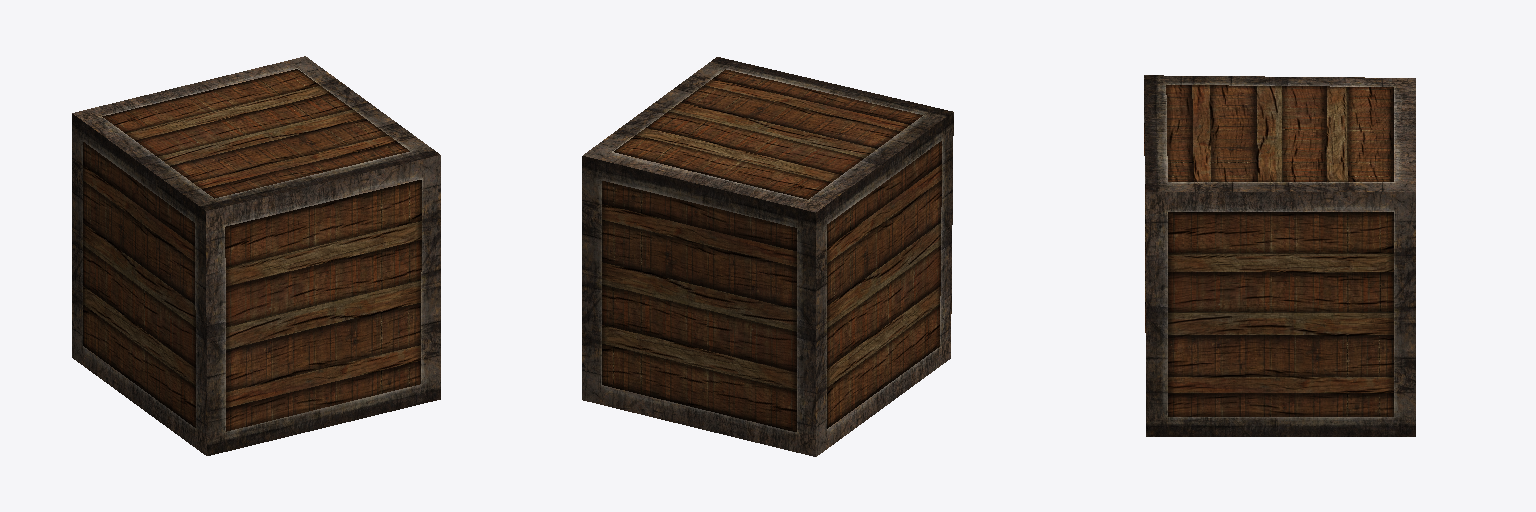
3 views of the same model, side by side, from view 1: azimuth 30°, elevation 25°; view 2: azimuth 150°, elevation 25°; view 3: azimuth 270°, elevation 25° (orthographic).
Parts seen in each view (by area): view 1: Cube; view 2: Cube; view 3: Cube.
Boxes of the visible parts, box(x1,y1,x2,y2) form: Cube: box(72, 56, 440, 455); Cube: box(582, 57, 953, 456); Cube: box(1144, 75, 1415, 436).
Bounding box in the file's own units: 2.02 × 2.02 × 2.02.
Materials: 1 (1 with a texture image).